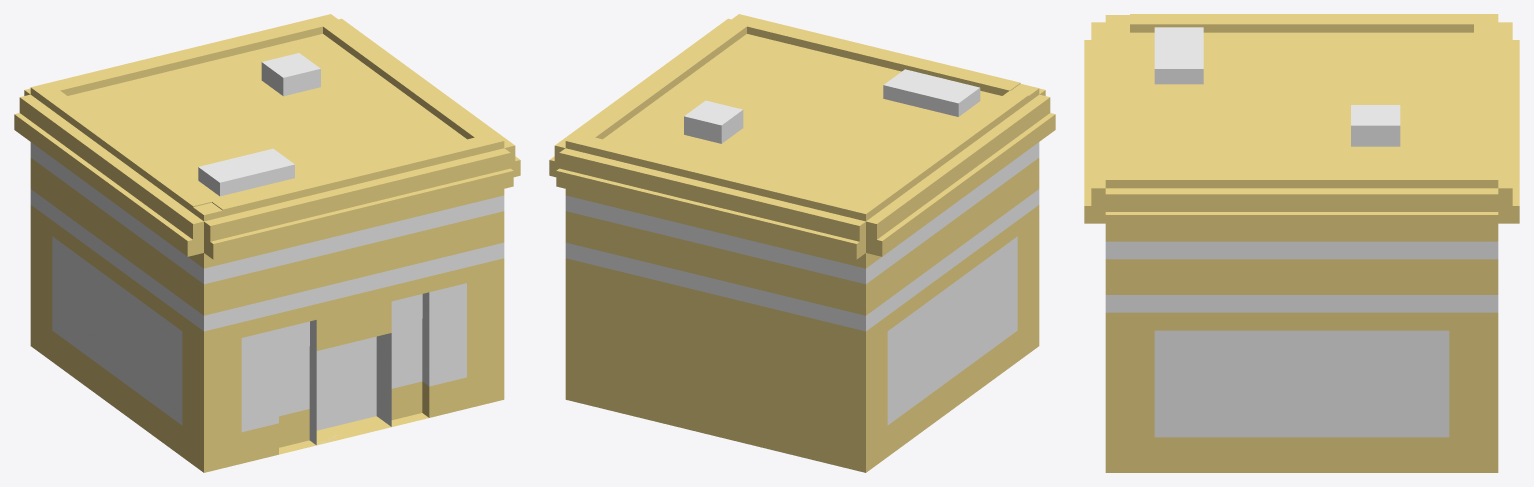
The model's file is darkorangeShop.fbx.
The picture shows the model from 3 angles, left to right: view 1: azimuth 30°, elevation 25°; view 2: azimuth 150°, elevation 25°; view 3: azimuth 270°, elevation 25°; orthographic projection. The views are drawn at different scales.
Visible parts, largest first — view 1: Shop; view 2: Shop; view 3: Shop.
Part boxes in pixels (x1,y1,x2,y2): Shop: [14, 14, 520, 472]; Shop: [549, 14, 1055, 472]; Shop: [1084, 14, 1519, 472].
Size of the model in its own units: 1108 by 859 by 1108.
